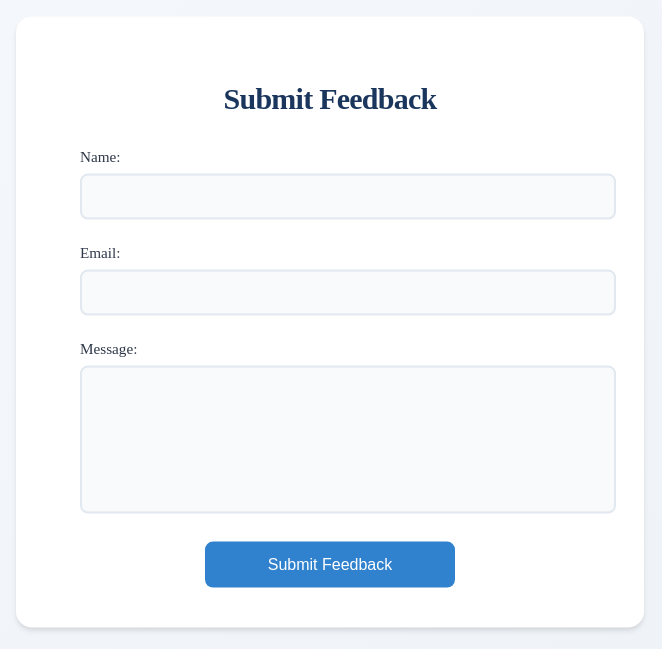
Test case: FeedbackForm › submits form successfully and shows thank you message
Type "Jane" into the field labelled "Name:" at (348, 196), box [80,173,616,219]
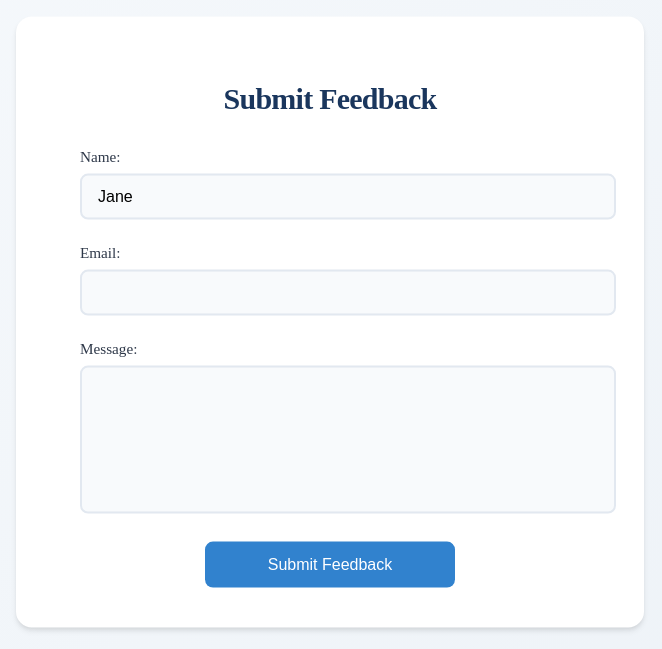
Type "jane@example.com" into the field labelled "Email:" at (348, 292), box [80,269,616,315]
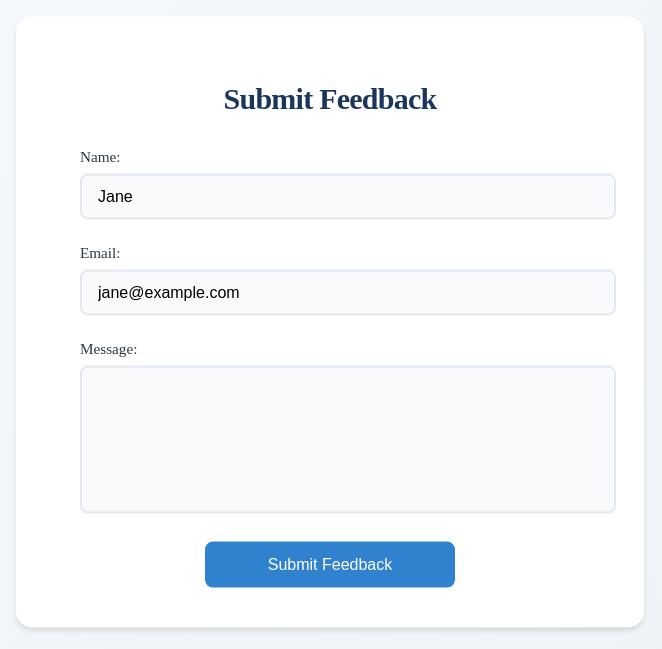
Type "Feedback message" into the text box labelled "Message:" at (348, 439), box [80,365,616,513]
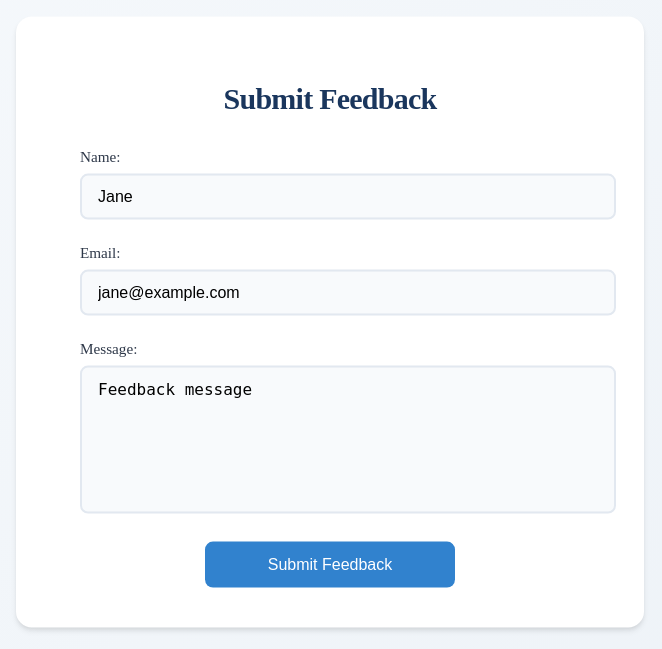
Click the button "Submit Feedback" at (330, 564), box [205,541,455,587]
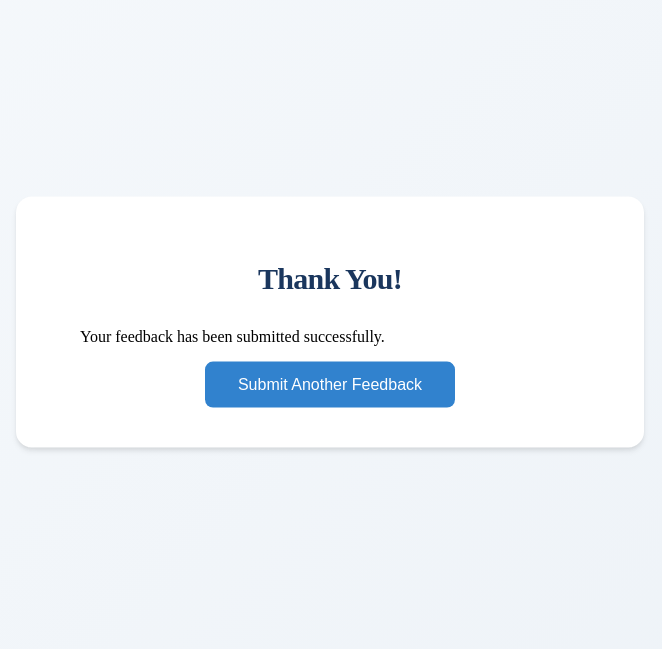
Expected: the heading "Thank You!" is shown, [258,261,402,294]
Expected: the text "Your feedback has been submitted successfully." is shown, [80,327,385,344]
